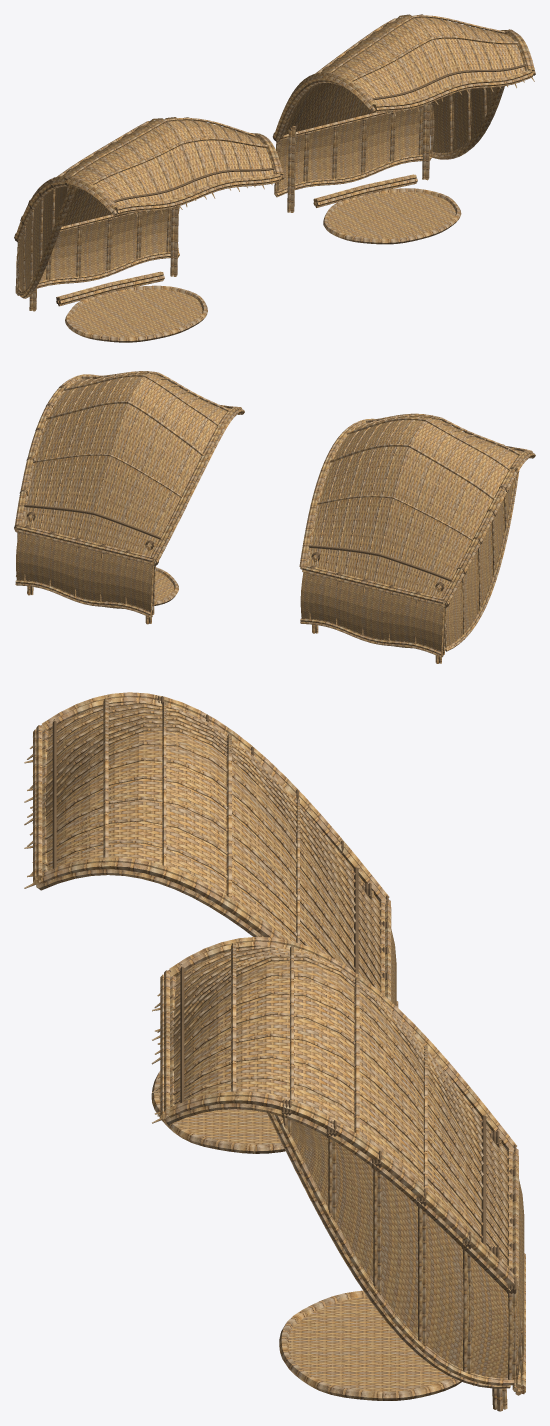
File: boughhome-longbough-modules.glb
The picture shows the model from 3 angles, top to bottom: view 1: azimuth 30°, elevation 25°; view 2: azimuth 150°, elevation 25°; view 3: azimuth 270°, elevation 25°; orthographic projection. The views are drawn at different scales.
Parts seen in each view (by area): view 1: study-structure-boughhome-wing-right, study-structure-boughhome-wing-left; view 2: study-structure-boughhome-wing-left, study-structure-boughhome-wing-right; view 3: study-structure-boughhome-wing-right, study-structure-boughhome-wing-left.
Part boxes in pixels (x1,y1,x2,y2): study-structure-boughhome-wing-right: (272, 14, 535, 244); study-structure-boughhome-wing-left: (14, 117, 284, 342); study-structure-boughhome-wing-left: (299, 413, 535, 663); study-structure-boughhome-wing-right: (14, 371, 244, 624); study-structure-boughhome-wing-right: (151, 936, 525, 1411); study-structure-boughhome-wing-left: (24, 692, 398, 1153).
Bounding box in the file's own units: 4.2 × 1.84 × 2.12.
Materials: 3 (2 with a texture image).
